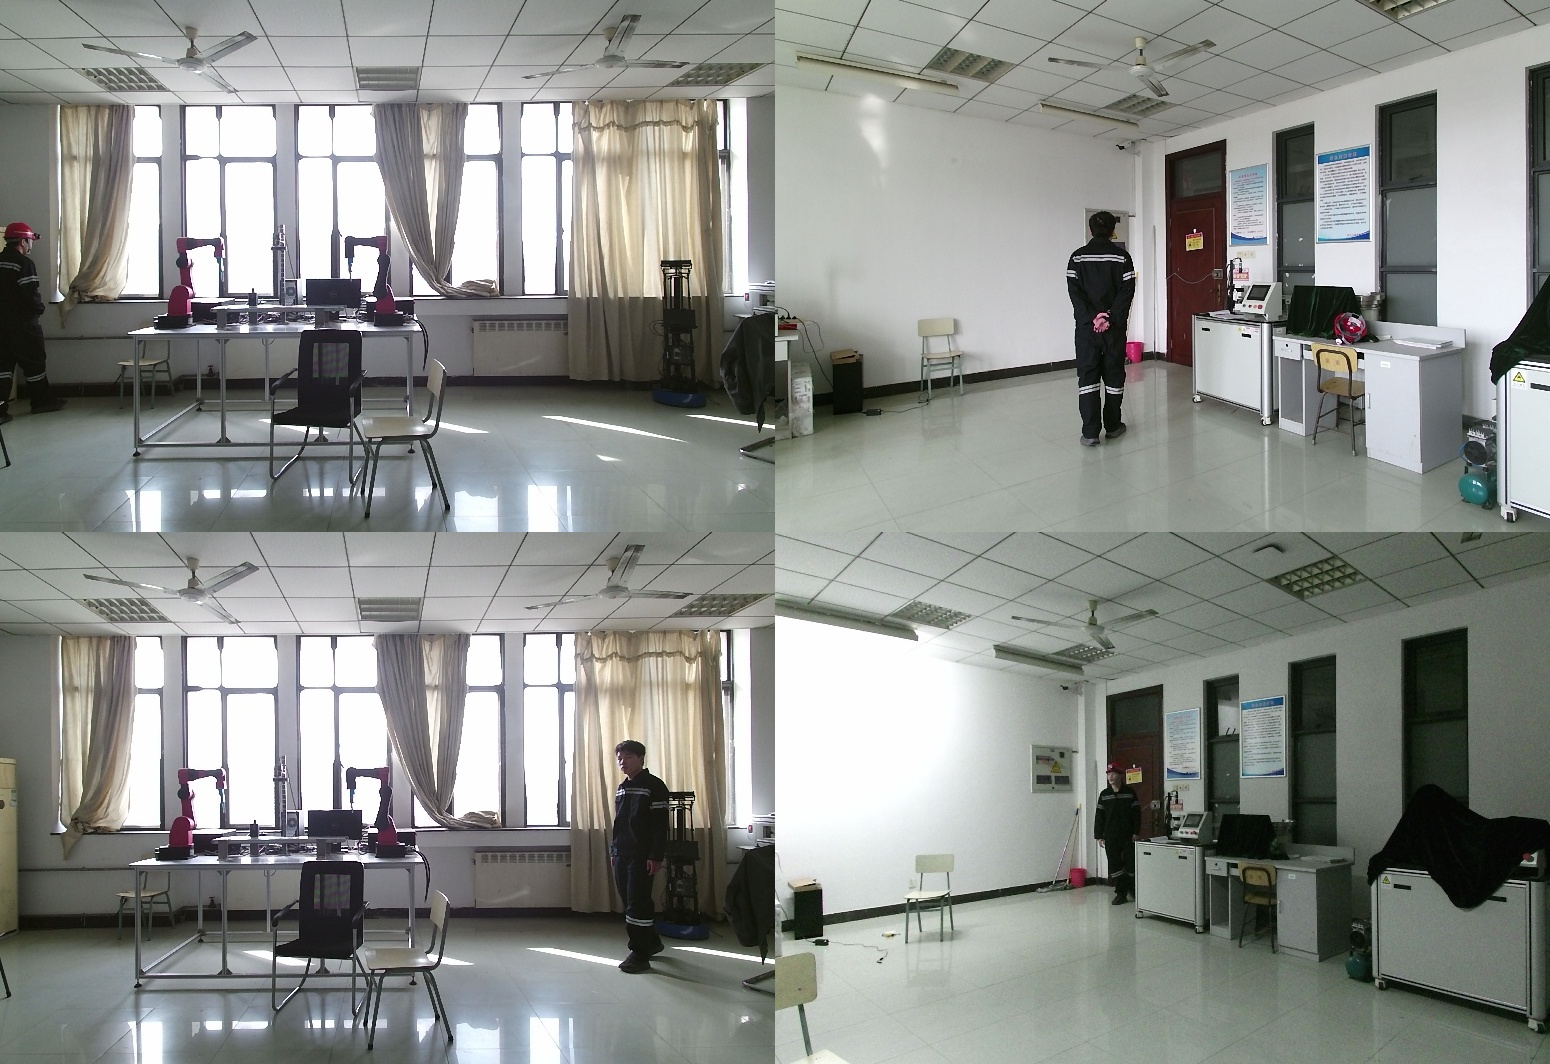person: (1062, 211, 1144, 450), (616, 742, 683, 977), (1, 224, 64, 416), (1091, 761, 1150, 911)
